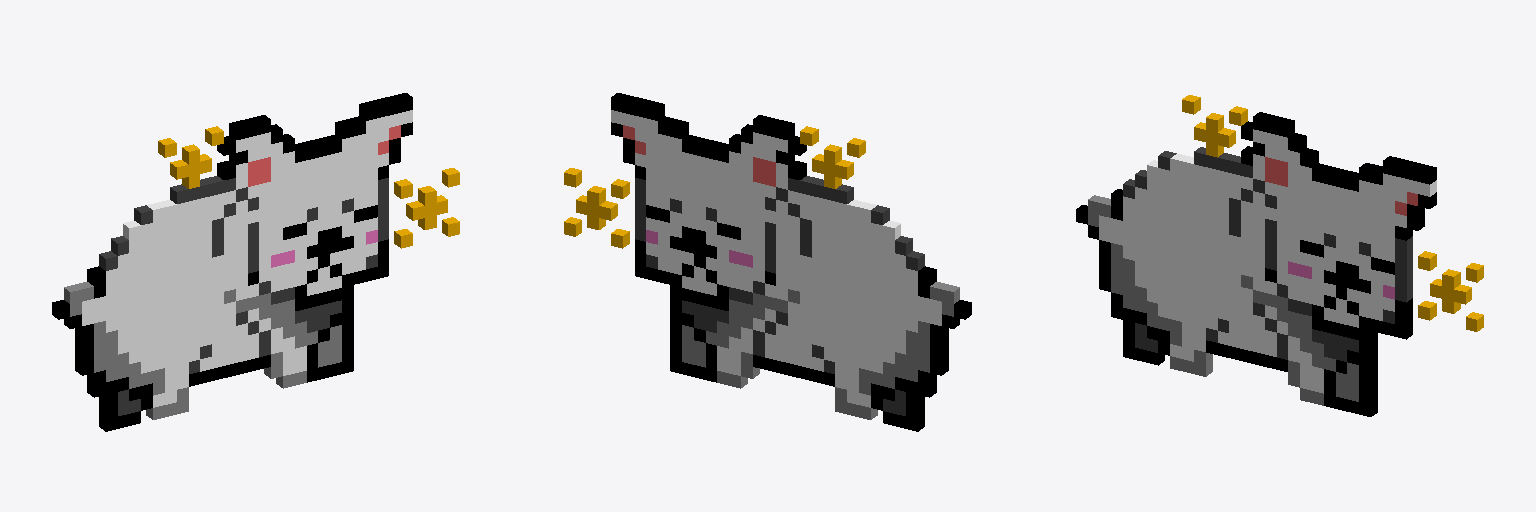
3 renders of one model, left to right at view 1: azimuth 30°, elevation 25°; view 2: azimuth 150°, elevation 25°; view 3: azimuth 330°, elevation 25°, orthographic.
Visible parts, largest first — view 1: object 1; view 2: object 1; view 3: object 1.
Boxes of the visible parts, box(x1,y1,x2,y2) form: object 1: box(52, 93, 459, 431); object 1: box(564, 93, 971, 431); object 1: box(1076, 95, 1483, 416).
Bounding box in the file's own units: 3.4 × 2.2 × 0.1.
Materials: 1 (1 with a texture image).